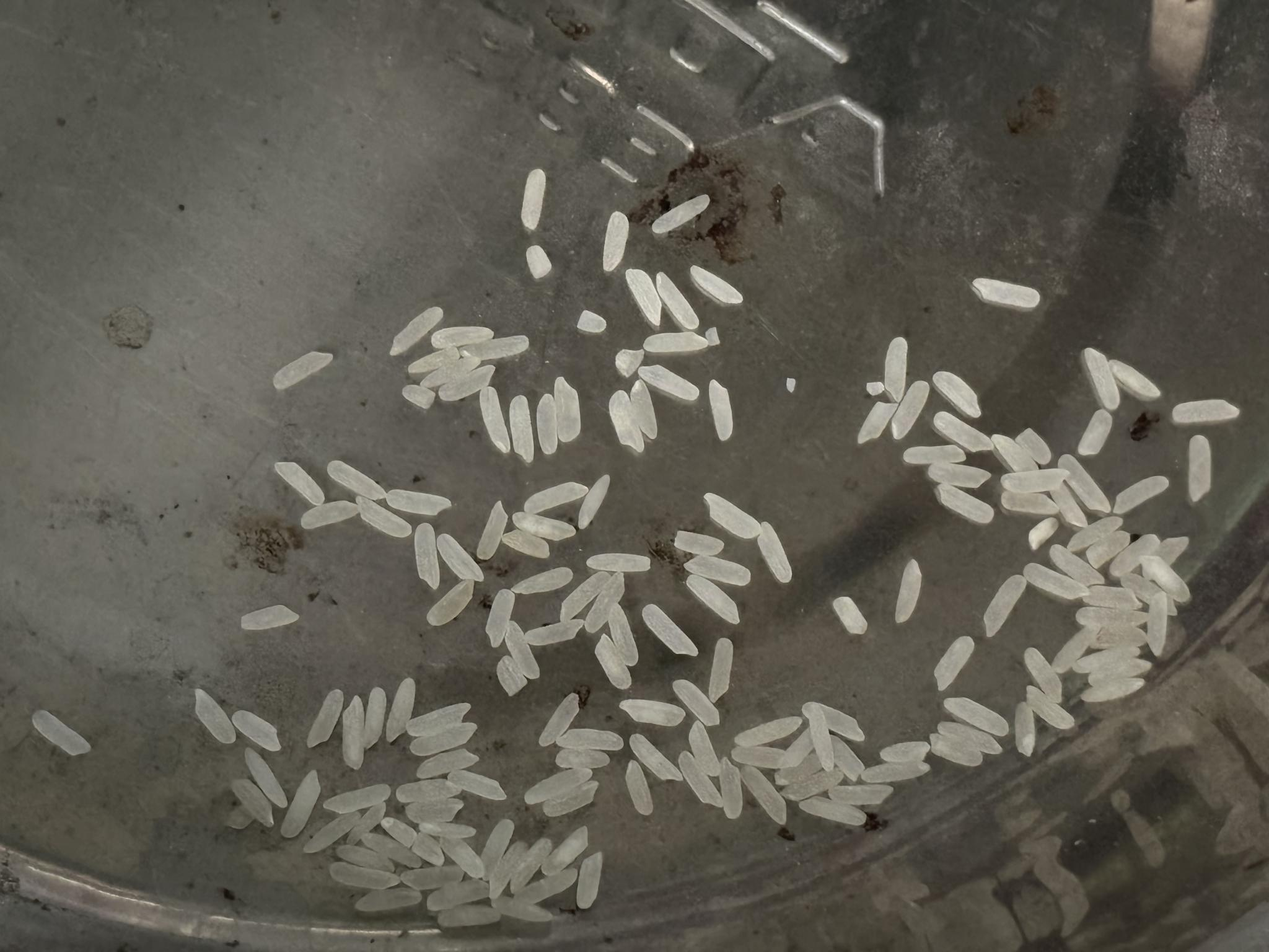Rice-th-y-nh: (234, 560, 309, 615), (29, 706, 92, 760), (641, 602, 699, 660), (1058, 452, 1111, 514), (740, 761, 788, 828), (980, 573, 1028, 638), (515, 862, 578, 911), (686, 571, 740, 628), (704, 489, 762, 542), (389, 303, 444, 358), (558, 568, 611, 624), (675, 750, 723, 811), (355, 492, 412, 543), (654, 271, 700, 332), (1081, 346, 1123, 411), (944, 695, 1009, 737), (427, 873, 489, 917), (801, 701, 840, 770), (283, 771, 323, 838), (523, 768, 593, 806), (274, 457, 325, 509), (1140, 553, 1192, 604), (628, 733, 681, 783), (542, 824, 590, 879), (1023, 562, 1087, 603), (486, 840, 529, 901), (932, 410, 990, 455), (436, 531, 484, 585), (361, 830, 424, 871), (934, 484, 995, 526), (672, 676, 720, 729), (1022, 687, 1078, 732), (1048, 545, 1105, 589), (931, 368, 981, 418), (1022, 646, 1065, 704), (712, 757, 752, 819), (326, 459, 385, 501), (550, 376, 587, 442), (651, 195, 712, 235), (1109, 357, 1162, 403), (638, 363, 700, 402), (684, 552, 751, 588), (404, 702, 471, 738), (493, 891, 553, 931), (245, 751, 287, 808), (584, 575, 626, 632), (799, 794, 867, 829), (732, 715, 802, 749), (327, 860, 399, 893), (538, 693, 581, 748), (192, 690, 235, 745), (933, 635, 976, 690), (891, 380, 931, 439), (756, 522, 794, 584), (426, 579, 475, 627), (972, 277, 1041, 311), (477, 386, 512, 453), (937, 719, 1002, 755), (273, 350, 331, 390), (324, 782, 390, 817), (478, 818, 514, 882), (570, 851, 609, 910), (810, 702, 866, 743), (231, 708, 282, 753), (1112, 475, 1169, 515), (624, 268, 663, 326), (502, 623, 541, 681), (410, 723, 476, 757), (230, 778, 276, 826), (438, 834, 487, 879), (1109, 534, 1159, 578), (688, 267, 744, 306), (307, 812, 359, 854), (593, 635, 632, 690), (608, 391, 643, 452), (306, 690, 344, 746), (620, 760, 658, 816), (1051, 626, 1094, 675), (990, 433, 1040, 475), (394, 776, 459, 808), (524, 481, 587, 514), (1000, 466, 1069, 496), (782, 768, 841, 803), (447, 768, 506, 803), (860, 758, 931, 787), (1066, 515, 1123, 551), (282, 547, 323, 597), (607, 605, 640, 667), (512, 510, 574, 543), (463, 333, 529, 364), (508, 841, 548, 892), (1076, 603, 1144, 633), (1170, 397, 1240, 426), (416, 747, 479, 779), (542, 782, 598, 818), (1081, 675, 1144, 707), (620, 697, 685, 728), (476, 501, 509, 562), (440, 366, 494, 403), (384, 678, 416, 740), (828, 779, 892, 810), (929, 733, 984, 769), (336, 843, 396, 876), (687, 721, 721, 779), (1049, 481, 1089, 530), (412, 523, 442, 588), (483, 588, 516, 647), (507, 394, 535, 463), (893, 559, 923, 623), (1088, 655, 1152, 685), (1185, 435, 1214, 501), (355, 886, 421, 915), (556, 725, 624, 753), (512, 566, 573, 597), (999, 489, 1060, 520), (387, 488, 450, 518), (1083, 582, 1140, 615), (586, 549, 653, 577), (1075, 646, 1142, 674), (401, 863, 465, 892), (576, 474, 611, 527), (856, 400, 897, 445), (1085, 529, 1131, 569), (600, 212, 630, 273), (436, 901, 499, 930), (881, 337, 909, 402), (345, 801, 387, 844), (629, 381, 660, 439), (419, 359, 477, 390), (928, 461, 990, 490), (643, 329, 707, 357), (1008, 702, 1041, 756), (301, 499, 358, 530), (707, 638, 735, 701), (405, 796, 463, 826), (707, 379, 735, 441), (240, 603, 299, 632), (520, 169, 548, 230), (525, 619, 583, 648), (902, 441, 964, 468), (431, 323, 493, 350), (779, 724, 815, 770), (731, 743, 788, 772), (1078, 409, 1113, 456), (829, 736, 866, 780), (1119, 570, 1165, 605), (418, 817, 476, 844), (408, 347, 462, 376), (360, 689, 387, 747), (1146, 592, 1170, 655), (503, 528, 550, 560), (535, 395, 560, 454), (557, 745, 611, 772), (1016, 427, 1053, 465), (832, 596, 868, 635), (674, 529, 724, 557), (494, 657, 528, 697), (410, 831, 446, 868), (880, 739, 931, 765), (380, 816, 418, 848), (1027, 517, 1059, 551), (525, 244, 553, 279), (615, 347, 645, 378), (402, 383, 436, 410), (704, 327, 722, 346)
